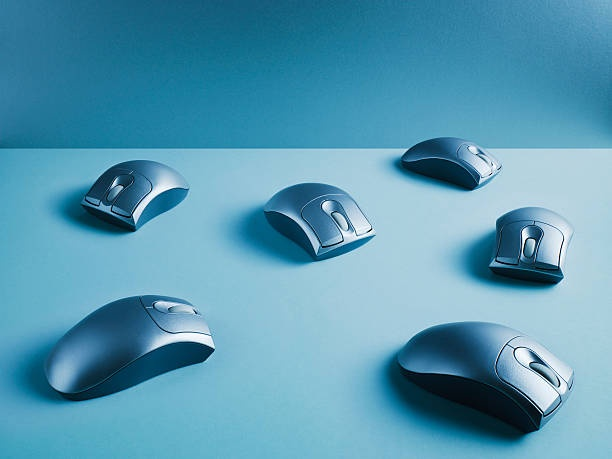mouse: (394, 319, 576, 435), (40, 293, 217, 402), (261, 181, 377, 263), (79, 158, 191, 231), (486, 205, 575, 287), (399, 135, 505, 191)
